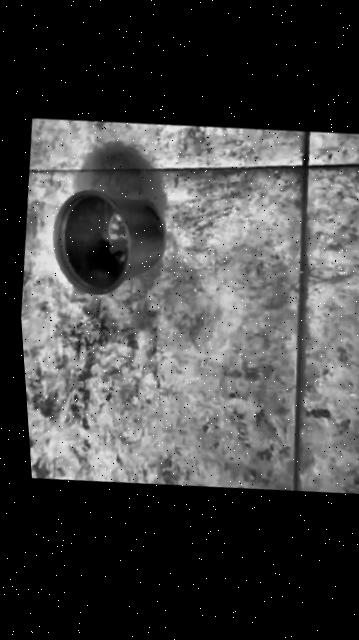pot: (42, 181, 172, 305)
